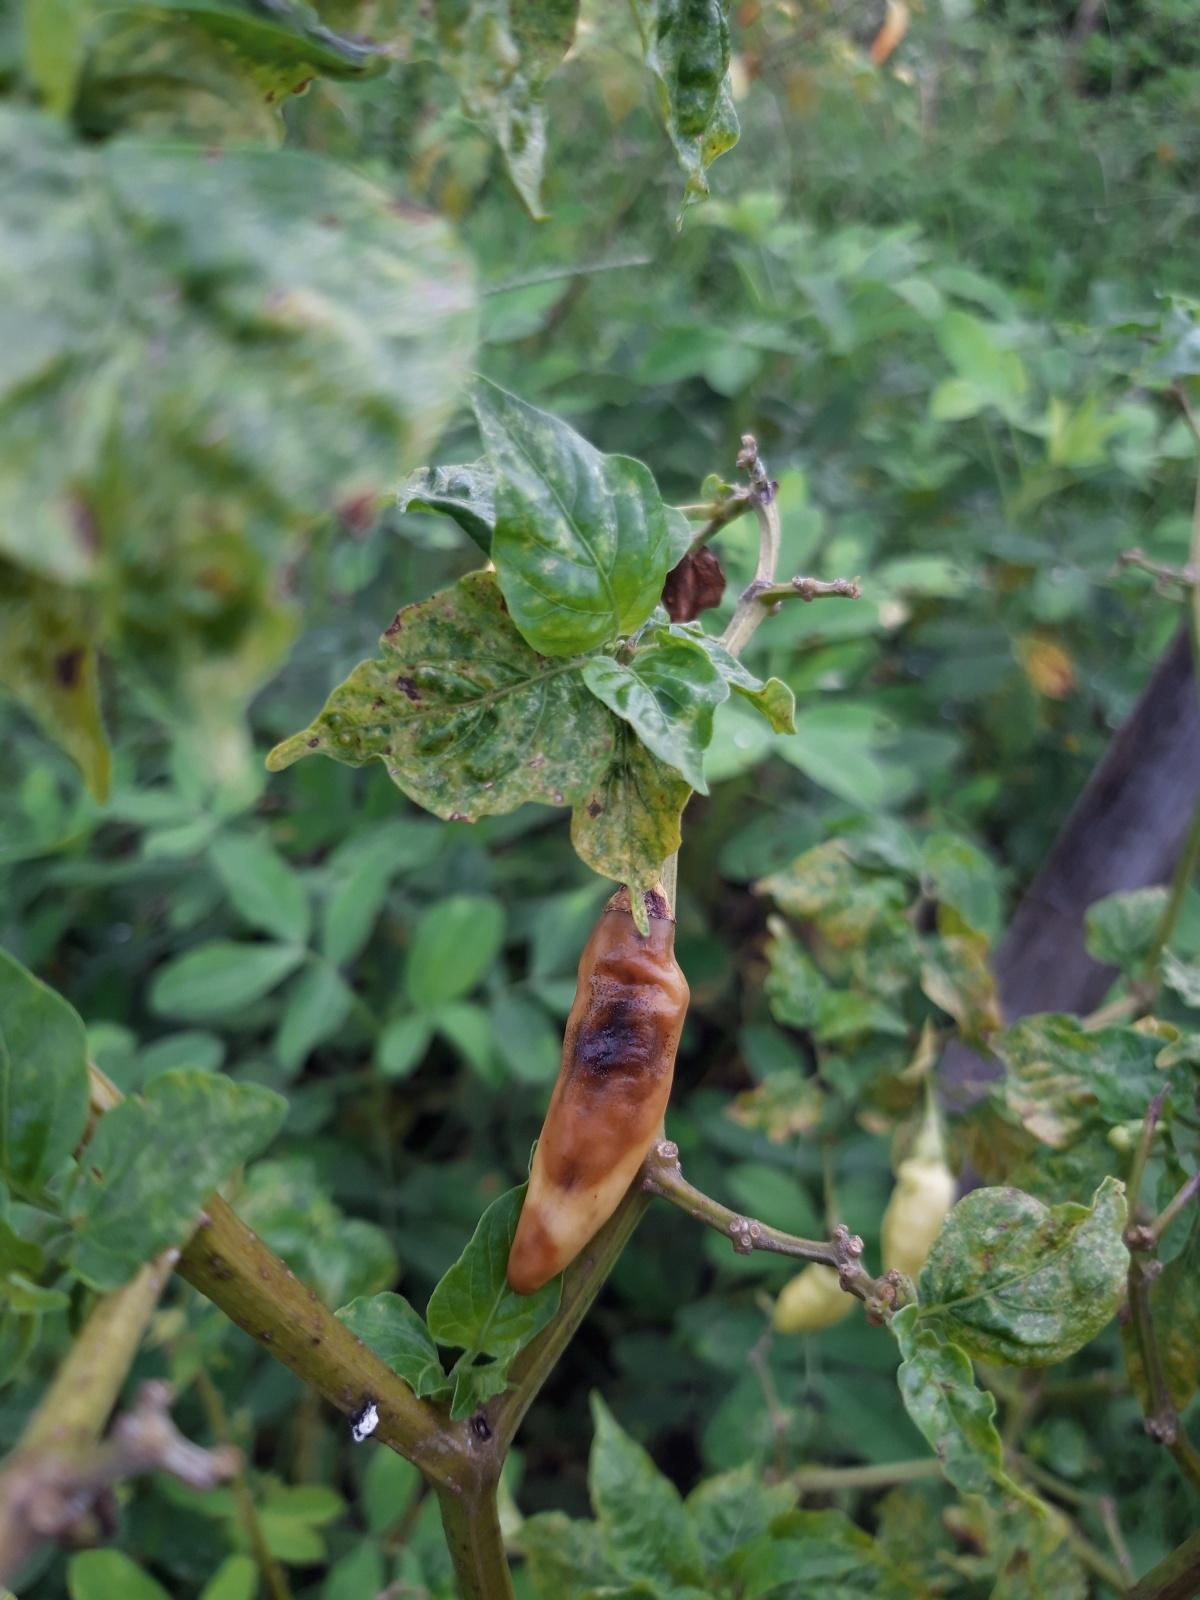cabai_normal: (877, 1148, 957, 1294), (771, 1259, 861, 1332)
lalat_buah: (504, 869, 692, 1294)
